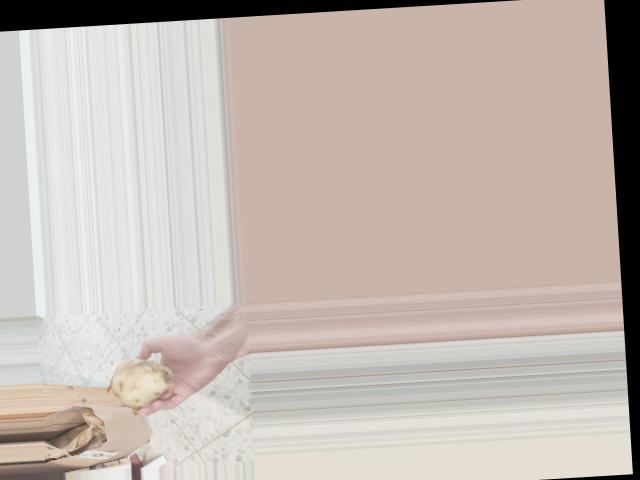onion: (104, 353, 178, 415)
